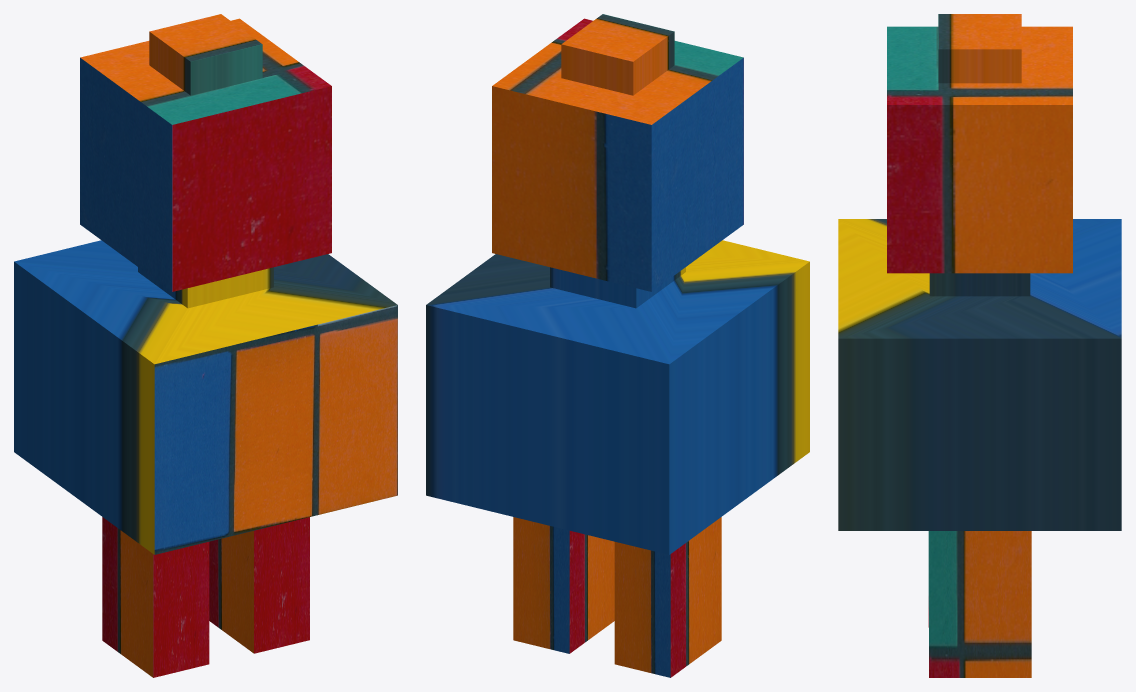
File: robot3.obj
3 renders of one model, left to right at view 1: azimuth 30°, elevation 25°; view 2: azimuth 150°, elevation 25°; view 3: azimuth 270°, elevation 25°, orthographic.
Visible parts, largest first — view 1: Cube, Cube.001; view 2: Cube, Cube.001; view 3: Cube, Cube.001.
Part boxes in pixels (x1,y1,x2,y2): Cube: [14, 14, 397, 554]; Cube.001: [102, 517, 309, 677]; Cube: [426, 14, 809, 554]; Cube.001: [513, 517, 721, 677]; Cube: [838, 14, 1121, 530]; Cube.001: [928, 531, 1031, 677].
Size of the model in its own units: 3.05 by 7.22 by 3.05.
